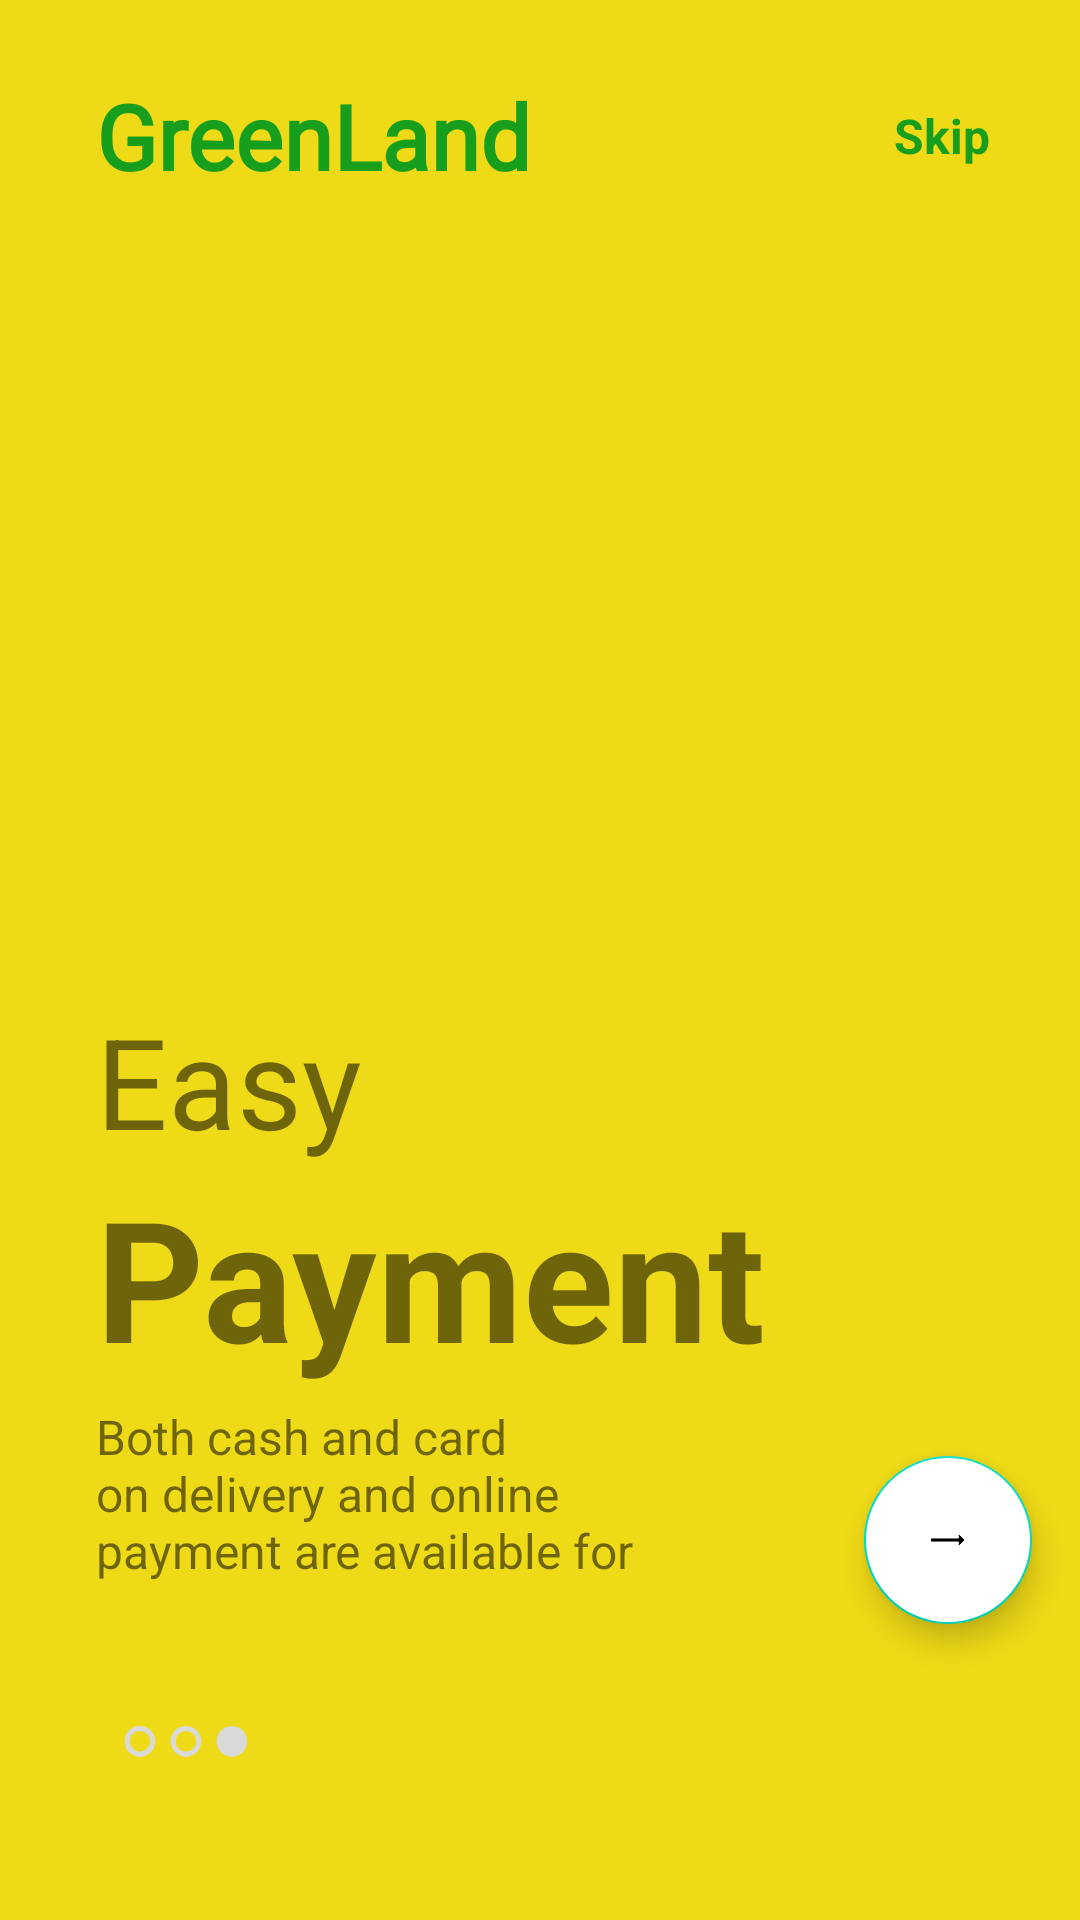

Icons on this 1080px×1920px Android screen, each with its box as (x1, y1, x2, y2):
next: (864, 1456, 1032, 1624)
tab: (124, 1726, 247, 1757)
